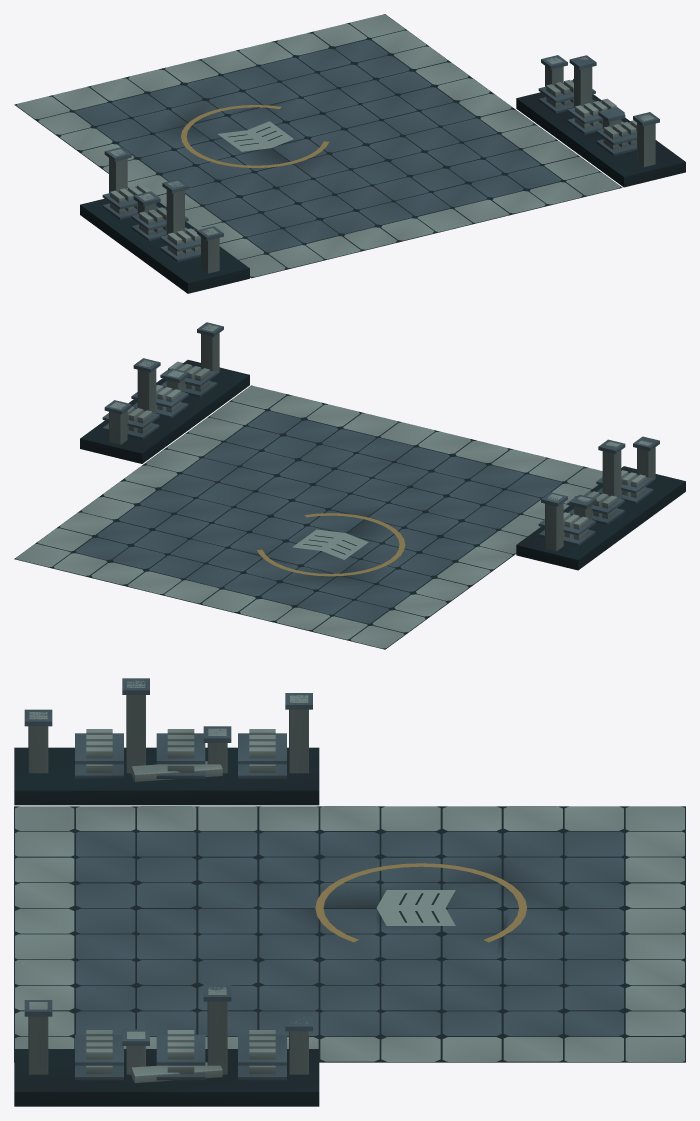
Rendered from moonveil-drowned-archive-v1.glb.
3 views of the same model, one above another, from view 1: azimuth 30°, elevation 25°; view 2: azimuth 150°, elevation 25°; view 3: azimuth 270°, elevation 25° (orthographic). The views are drawn at different scales.
Visible parts, largest first — view 1: GB_DROWNED_FLOOR, GB_DROWNED_WEST, GB_DROWNED_EAST, GB_DROWNED_INDEX; view 2: GB_DROWNED_FLOOR, GB_DROWNED_WEST, GB_DROWNED_EAST, GB_DROWNED_INDEX; view 3: GB_DROWNED_FLOOR, GB_DROWNED_WEST, GB_DROWNED_EAST, GB_DROWNED_INDEX.
Part boxes in pixels (left/top/right/bottom): GB_DROWNED_FLOOR: left=14, top=14, right=622, bottom=278; GB_DROWNED_WEST: left=80, top=147, right=249, bottom=293; GB_DROWNED_EAST: left=516, top=55, right=685, bottom=187; GB_DROWNED_INDEX: left=181, top=105, right=329, bottom=167; GB_DROWNED_FLOOR: left=14, top=385, right=602, bottom=649; GB_DROWNED_WEST: left=516, top=436, right=685, bottom=570; GB_DROWNED_EAST: left=80, top=322, right=249, bottom=463; GB_DROWNED_INDEX: left=257, top=513, right=405, bottom=576; GB_DROWNED_FLOOR: left=14, top=806, right=685, bottom=1062; GB_DROWNED_WEST: left=14, top=678, right=319, bottom=805; GB_DROWNED_EAST: left=14, top=985, right=319, bottom=1106; GB_DROWNED_INDEX: left=315, top=863, right=526, bottom=942.
Bounding box in the file's own units: 39.98 × 5.4 × 33.
